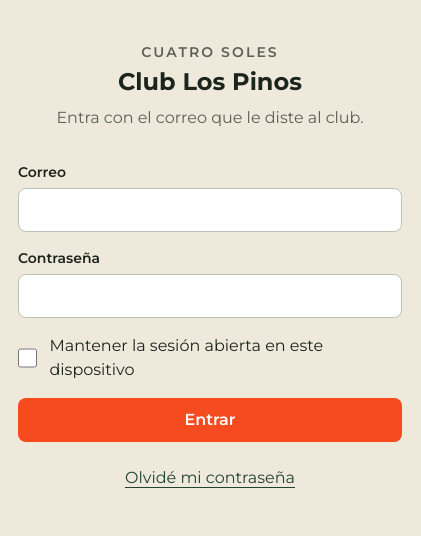
Test: Pantalla de ingreso · entrar › muestra el error del API en español, no el mensaje del servidor
The image size is (421, 536).
In the field labelled "Correo": x=210, y=210 [18, 188, 402, 232], type "maria@lospinos.test"
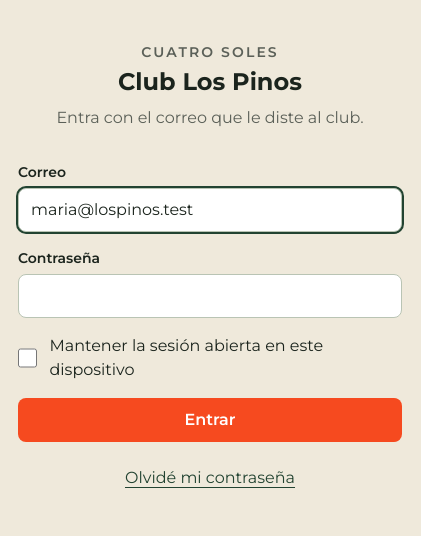
In the password field labelled "Contraseña": x=210, y=296 [18, 274, 402, 318], type "mi-clave-larga-9"
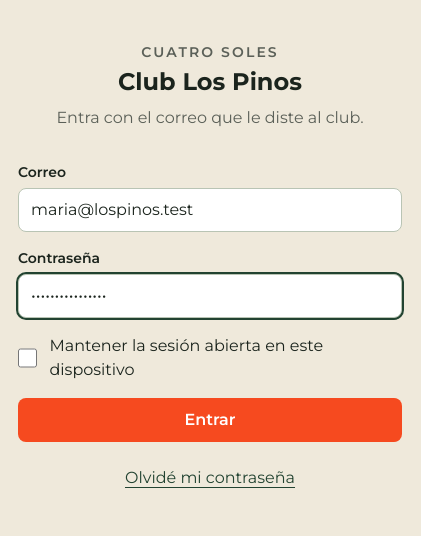
Click the button "Entrar": x=210, y=420 [18, 398, 402, 442]
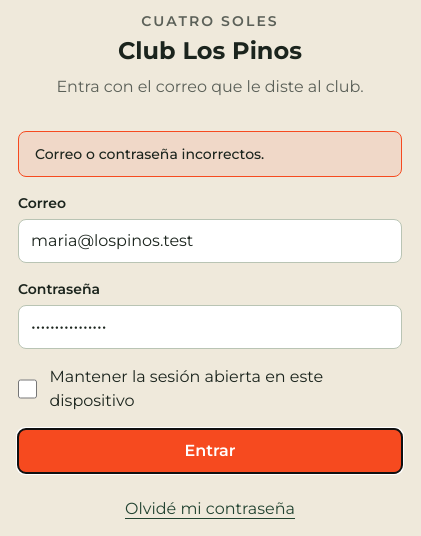
expect the message reads "Correo o contraseña incorrectos.": met, box [35, 145, 264, 163]
